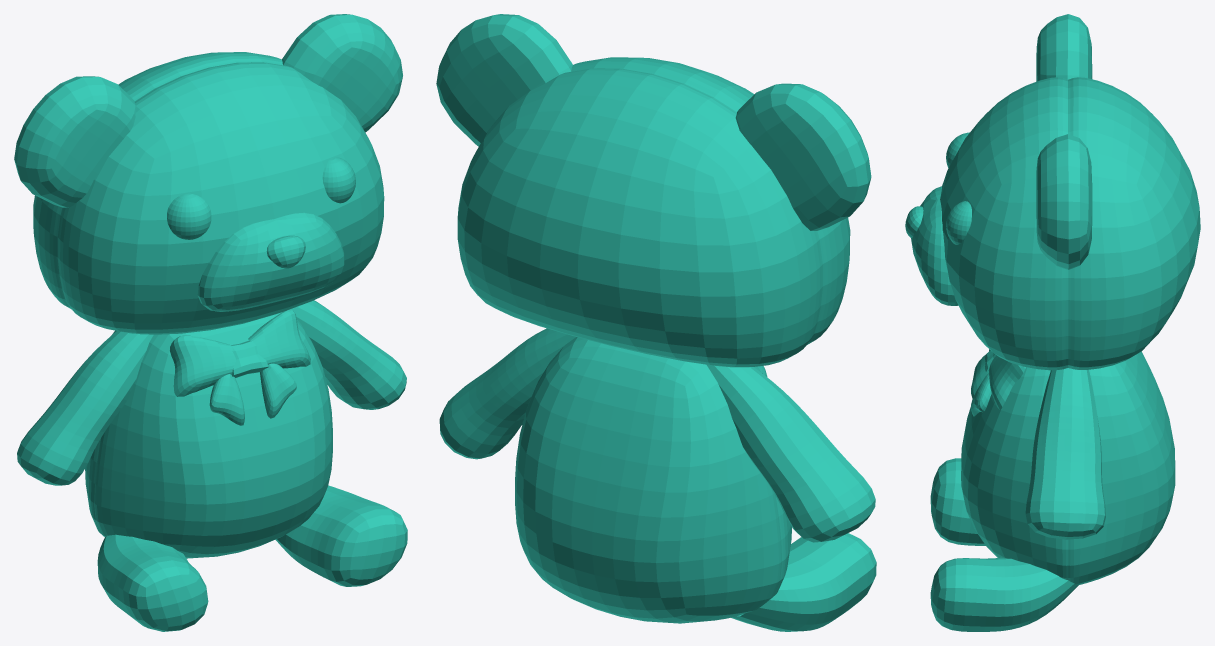
The model's file is Lvl1_teddy02.fbx.
3 renders of one model, left to right at view 1: azimuth 30°, elevation 25°; view 2: azimuth 150°, elevation 25°; view 3: azimuth 270°, elevation 25°, orthographic. The views are drawn at different scales.
Visible parts, largest first — view 1: teddy; view 2: teddy; view 3: teddy.
Part boxes in pixels (x1,y1,x2,y2): teddy: [14, 14, 407, 631]; teddy: [436, 14, 876, 631]; teddy: [905, 14, 1200, 631].
Bounding box in the file's own units: 5.76 × 7.45 × 3.95.
